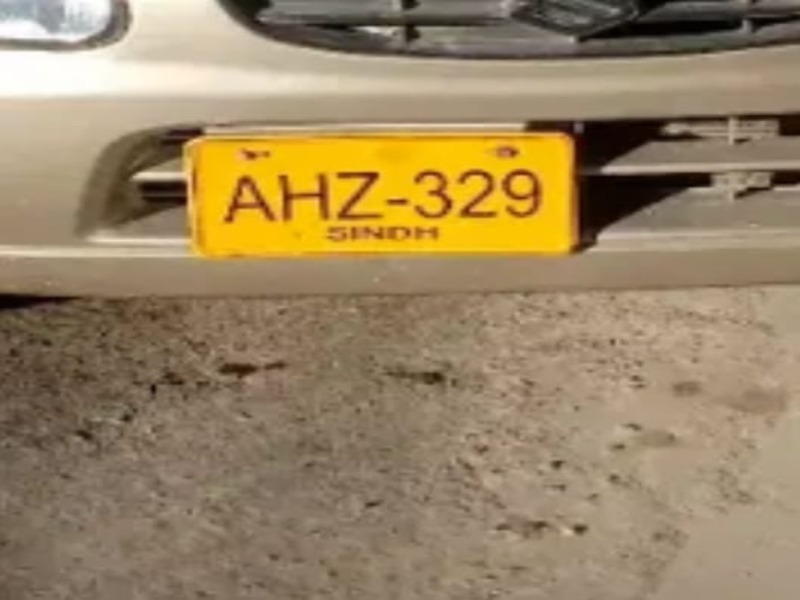License Plate: (182, 132, 578, 257)
